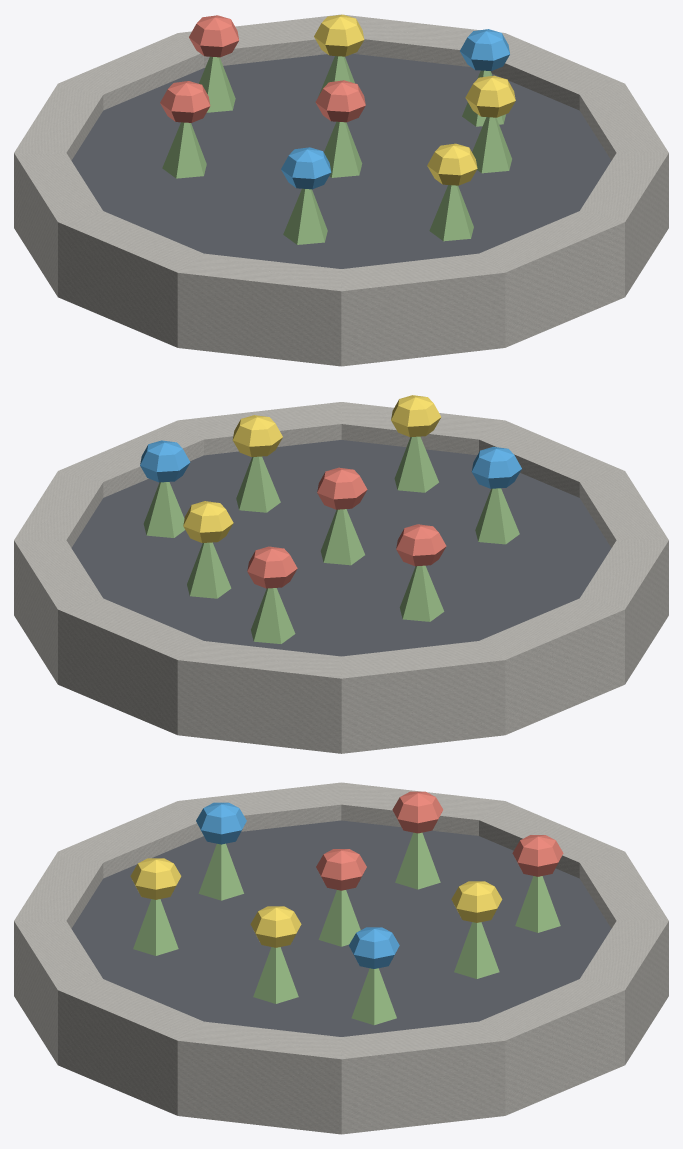
The model's file is plain.glb.
The picture shows the model from 3 angles, top to bottom: view 1: azimuth 30°, elevation 25°; view 2: azimuth 150°, elevation 25°; view 3: azimuth 270°, elevation 25°; orthographic projection.
Visible parts, largest first — view 1: flower-bed-paving, flower-bed-charcoal, flower-bed-grass, flower-bed-sunflower, flower-bed-poppy, flower-bed-azure; view 2: flower-bed-paving, flower-bed-charcoal, flower-bed-grass, flower-bed-poppy, flower-bed-sunflower, flower-bed-azure; view 3: flower-bed-paving, flower-bed-charcoal, flower-bed-grass, flower-bed-sunflower, flower-bed-poppy, flower-bed-azure.
Part boxes in pixels (x1=…): flower-bed-paving: x1=14, y1=14, x2=668, y2=366; flower-bed-charcoal: x1=71, y1=54, x2=611, y2=268; flower-bed-grass: x1=162, y1=56, x2=511, y2=244; flower-bed-sunflower: x1=314, y1=14, x2=515, y2=185; flower-bed-poppy: x1=160, y1=15, x2=365, y2=122; flower-bed-azure: x1=281, y1=29, x2=509, y2=189; flower-bed-paving: x1=14, y1=402, x2=668, y2=753; flower-bed-charcoal: x1=71, y1=440, x2=611, y2=656; flower-bed-grass: x1=143, y1=436, x2=519, y2=643; flower-bed-poppy: x1=247, y1=467, x2=446, y2=588; flower-bed-sunflower: x1=183, y1=395, x2=441, y2=542; flower-bed-azure: x1=140, y1=440, x2=521, y2=488; flower-bed-paving: x1=14, y1=782, x2=668, y2=1134; flower-bed-charcoal: x1=71, y1=820, x2=611, y2=1036; flower-bed-grass: x1=133, y1=832, x2=560, y2=1025; flower-bed-sunflower: x1=130, y1=858, x2=502, y2=947; flower-bed-poppy: x1=316, y1=791, x2=563, y2=890; flower-bed-azure: x1=196, y1=802, x2=399, y2=968.
Bounding box in the file's own units: 3 × 0.7361 × 3.
6 materials, 1 textured.
